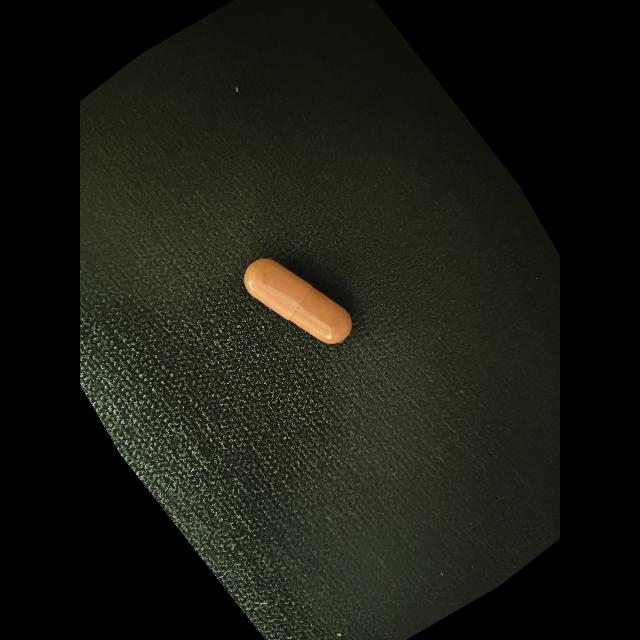Intact Capsule: (244, 258, 352, 344)
